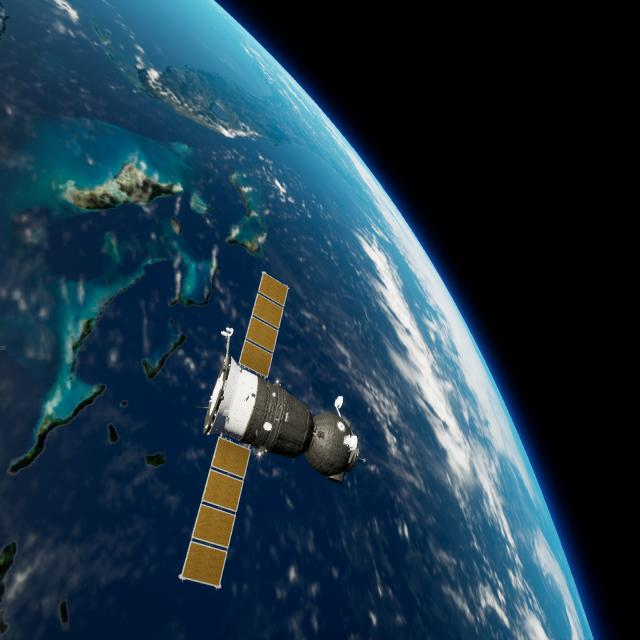Satellites revolving around earth: (2, 1, 594, 637)
